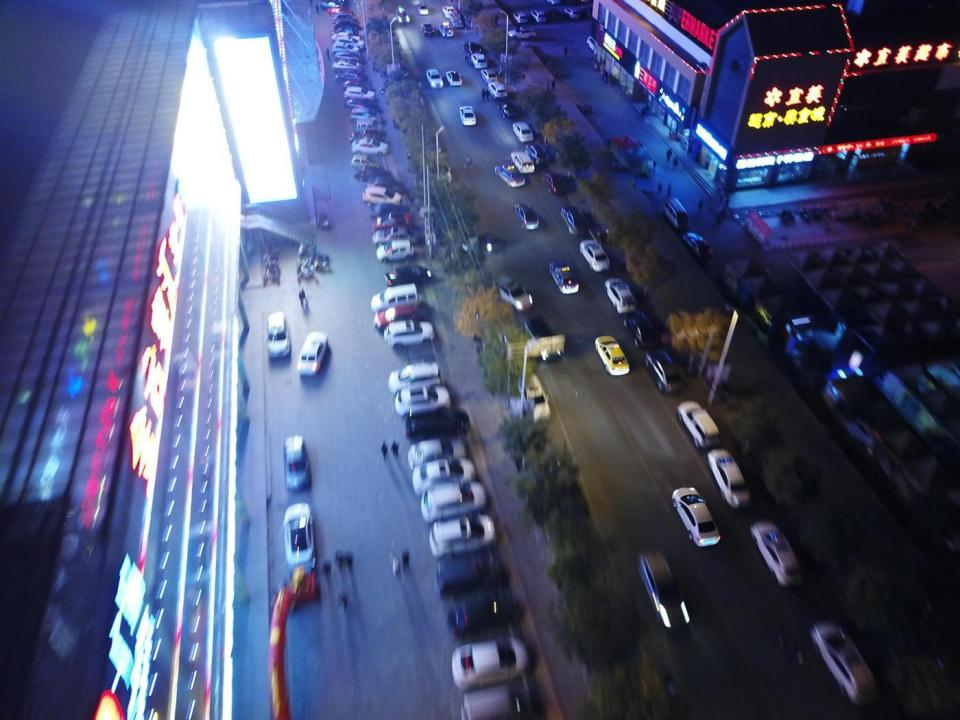car: (811, 620, 881, 705), (452, 636, 533, 690), (638, 550, 690, 626), (750, 519, 802, 586), (446, 593, 524, 634), (429, 512, 498, 556), (435, 555, 507, 596), (420, 480, 488, 523), (672, 487, 720, 546), (708, 448, 752, 506), (413, 457, 474, 496), (405, 409, 471, 445), (678, 400, 720, 448), (283, 503, 315, 565), (407, 437, 466, 470), (609, 134, 655, 176), (645, 348, 683, 393), (524, 316, 561, 361), (284, 435, 312, 492), (518, 373, 550, 422), (395, 386, 450, 414), (382, 320, 436, 348), (595, 335, 630, 376), (298, 331, 329, 375), (623, 310, 657, 347), (375, 304, 420, 329), (605, 278, 635, 314), (383, 264, 428, 288), (549, 259, 578, 293), (581, 239, 609, 271), (372, 228, 419, 246), (450, 223, 478, 252), (682, 232, 713, 258), (560, 206, 586, 236), (362, 186, 401, 206), (494, 162, 524, 187), (376, 241, 413, 261), (372, 213, 413, 230), (354, 166, 392, 184), (367, 176, 404, 194), (514, 203, 538, 230), (352, 138, 388, 156), (511, 150, 535, 173), (369, 204, 411, 217), (351, 155, 382, 172), (434, 160, 453, 185), (527, 143, 548, 165), (512, 121, 532, 143), (543, 172, 562, 194), (334, 72, 368, 84), (333, 60, 362, 74), (488, 81, 507, 101), (346, 87, 375, 100), (336, 37, 365, 50), (332, 43, 359, 56), (349, 132, 380, 143), (499, 100, 517, 118), (460, 106, 476, 126), (343, 80, 369, 92), (427, 68, 442, 88), (463, 41, 483, 56), (508, 28, 535, 39), (336, 52, 362, 63), (332, 32, 358, 43), (588, 36, 604, 53), (346, 99, 373, 109), (335, 19, 359, 30), (328, 7, 352, 18), (446, 70, 462, 86), (482, 68, 497, 84), (333, 26, 359, 35), (334, 13, 357, 23), (472, 54, 487, 68), (438, 22, 453, 36), (321, 2, 342, 12), (397, 8, 409, 24), (420, 23, 434, 36), (442, 5, 454, 20), (531, 10, 546, 22), (565, 7, 579, 18), (514, 12, 527, 23), (581, 7, 594, 17), (417, 3, 428, 14), (546, 0, 561, 5)
truck: (450, 11, 462, 27)
van: (448, 678, 550, 719), (389, 361, 441, 395), (489, 274, 532, 312), (371, 282, 419, 313), (267, 312, 290, 357), (662, 198, 688, 230), (349, 108, 380, 124), (358, 120, 384, 134)
